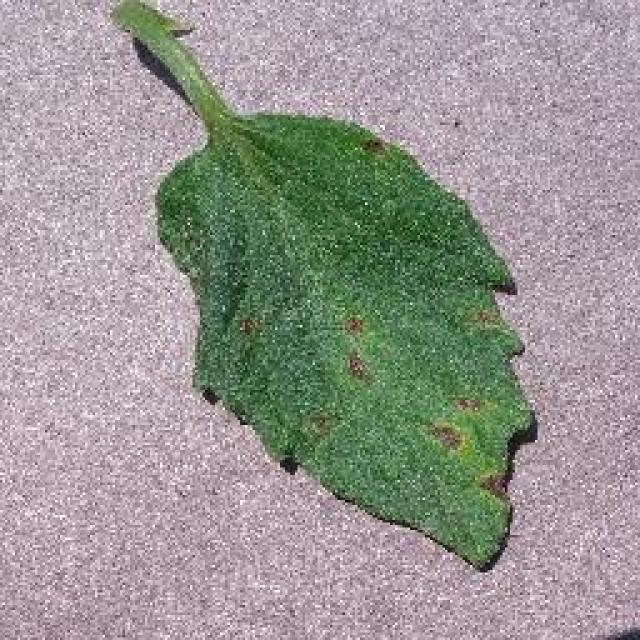Tomato___Septoria_leaf_spot: (112, 0, 532, 568)
